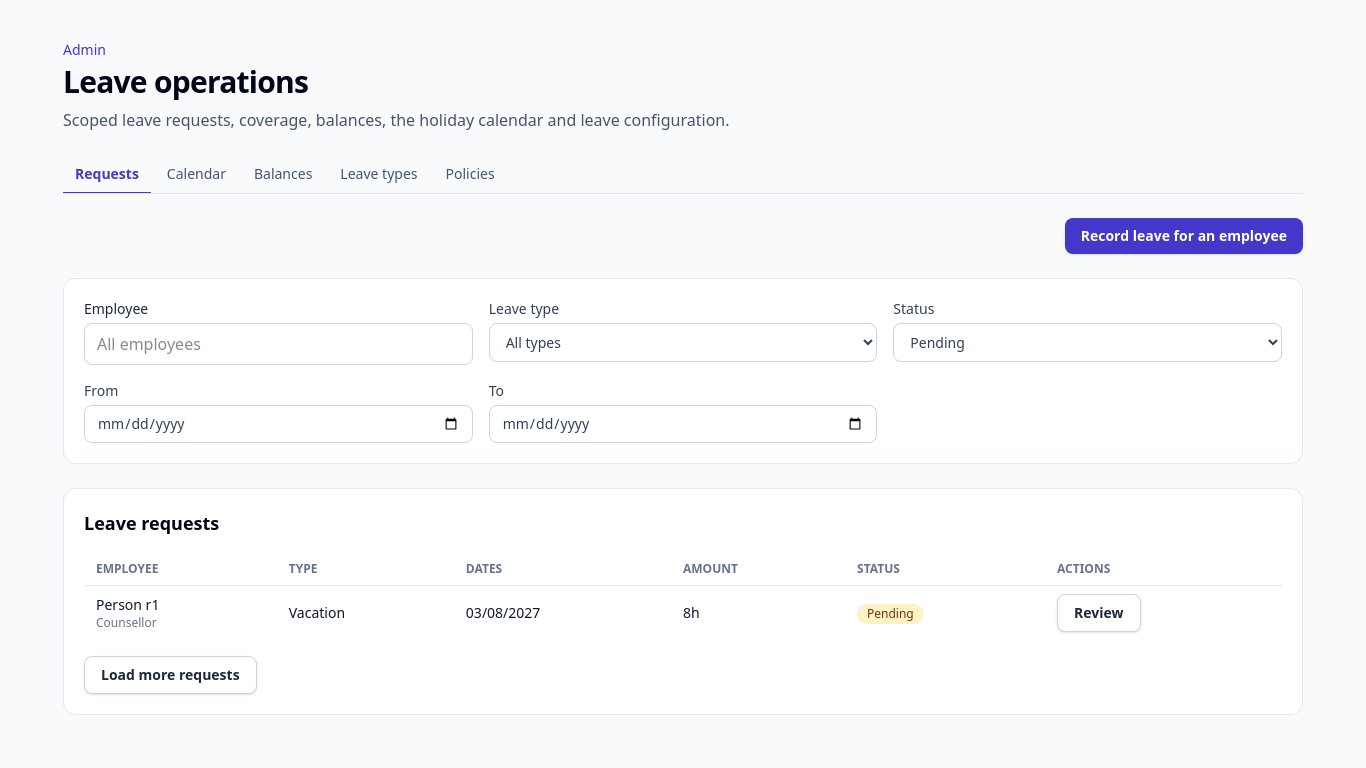
Scenario: Batch 6B — races (independent review findings) › never appends a page loaded for an earlier filter
This screenshot has width=1366, height=768.
Expected: the text "Person r1" is shown, [96, 595, 159, 614]
Click the button "Load more requests" at (170, 675), box [84, 656, 257, 694]
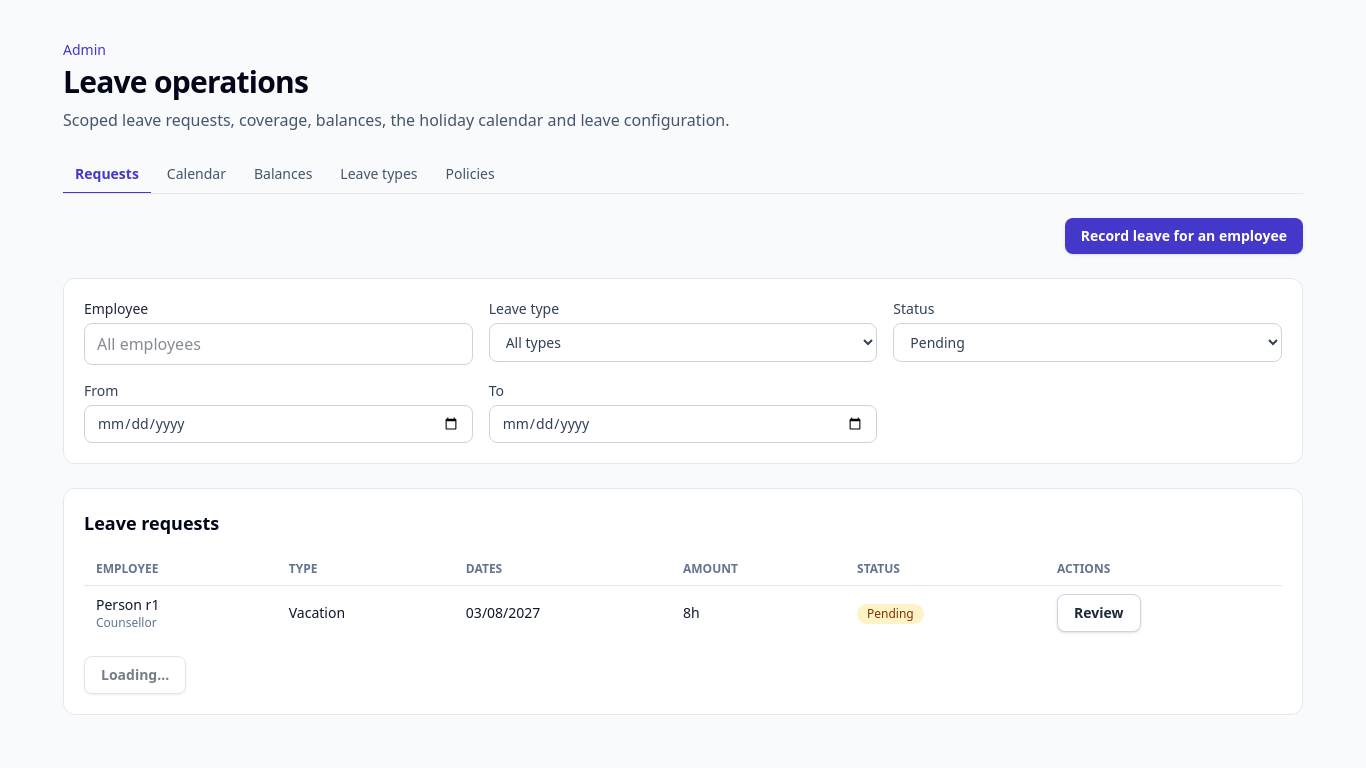
// The filter changes while the next page is loading.
Select "Vacation" in the dropdown labelled "Leave type" at (683, 342), box [489, 323, 877, 362]
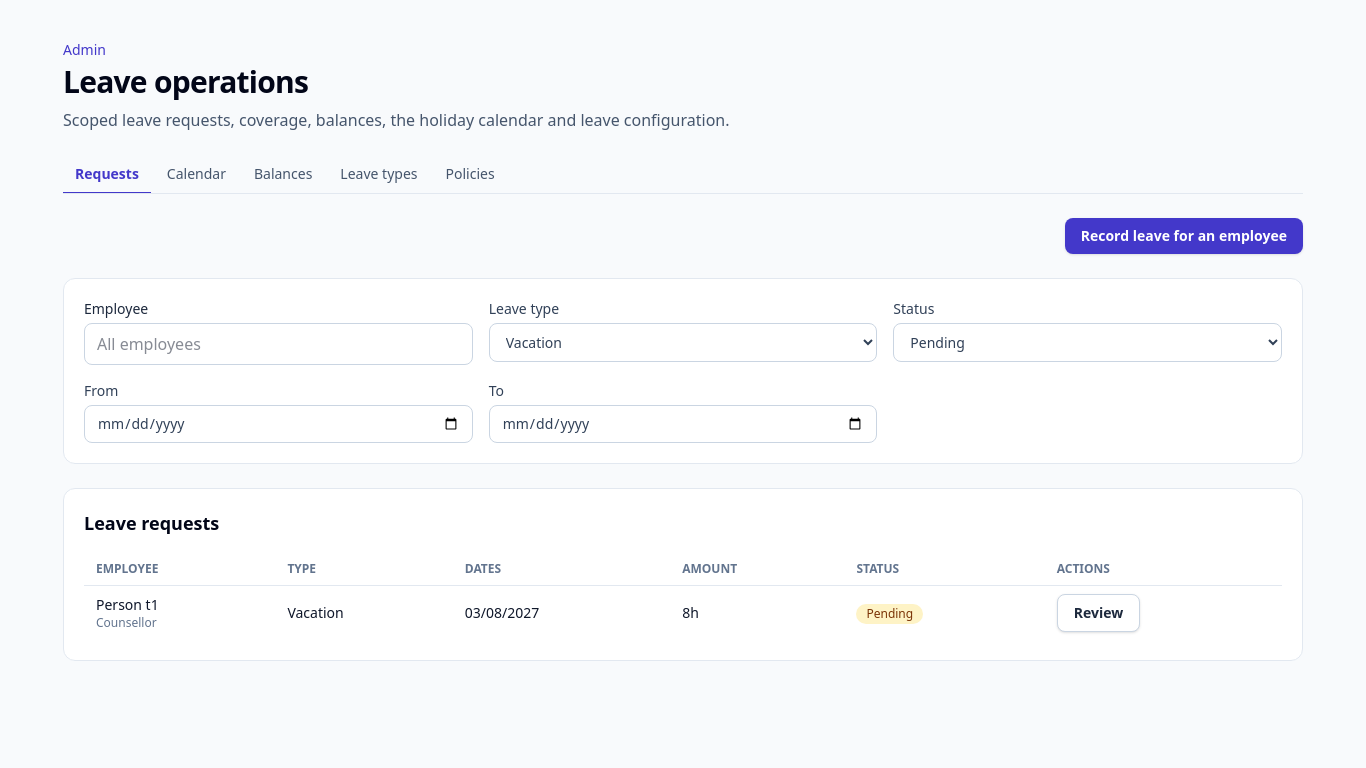
Expected: the button "Load more requests" is not shown
Now the text "Person t1" is shown, box [96, 595, 159, 614]
Now the text "Person r1" is gone
